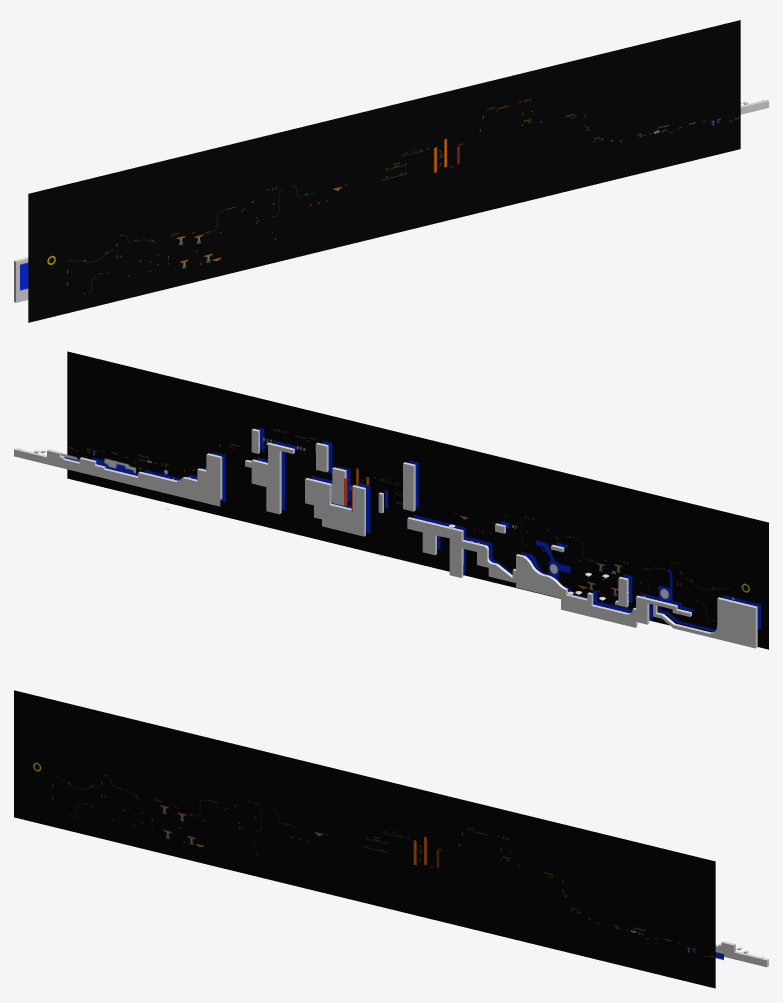
Rendered from Tut.glb.
3 views of the same model, one above another, from view 1: azimuth 30°, elevation 25°; view 2: azimuth 150°, elevation 25°; view 3: azimuth 330°, elevation 25° (orthographic).
Visible parts, largest first — view 1: tut on my torial (1).001 (Hide); view 2: tut on my torial (1).001 (Hide), tut on my torial (1) (Hide), Geometry.008, Geometry, Geometry.014, Geometry.006, Geometry.001, Geometry.005; view 3: tut on my torial (1).001 (Hide), Geometry.
Boxes of the visible parts, bbox=[...] form: tut on my torial (1).001 (Hide): bbox=[28, 20, 740, 322]; tut on my torial (1).001 (Hide): bbox=[67, 351, 768, 649]; tut on my torial (1) (Hide): bbox=[61, 427, 760, 631]; Geometry.008: bbox=[407, 517, 691, 627]; Geometry: bbox=[14, 448, 222, 506]; Geometry.014: bbox=[653, 597, 757, 648]; Geometry.006: bbox=[305, 478, 365, 536]; Geometry.001: bbox=[245, 442, 294, 514]; Geometry.005: bbox=[403, 462, 415, 511]; tut on my torial (1).001 (Hide): bbox=[14, 690, 715, 988]; Geometry: bbox=[715, 941, 768, 967].
Size of the model in its own units: 902 by 148 by 56.54.
4 materials, 2 textured.
